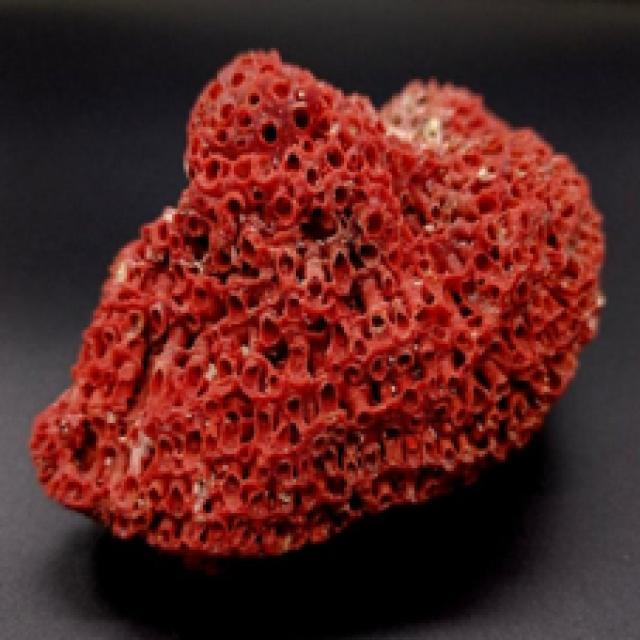Healthy: (29, 50, 610, 562)
